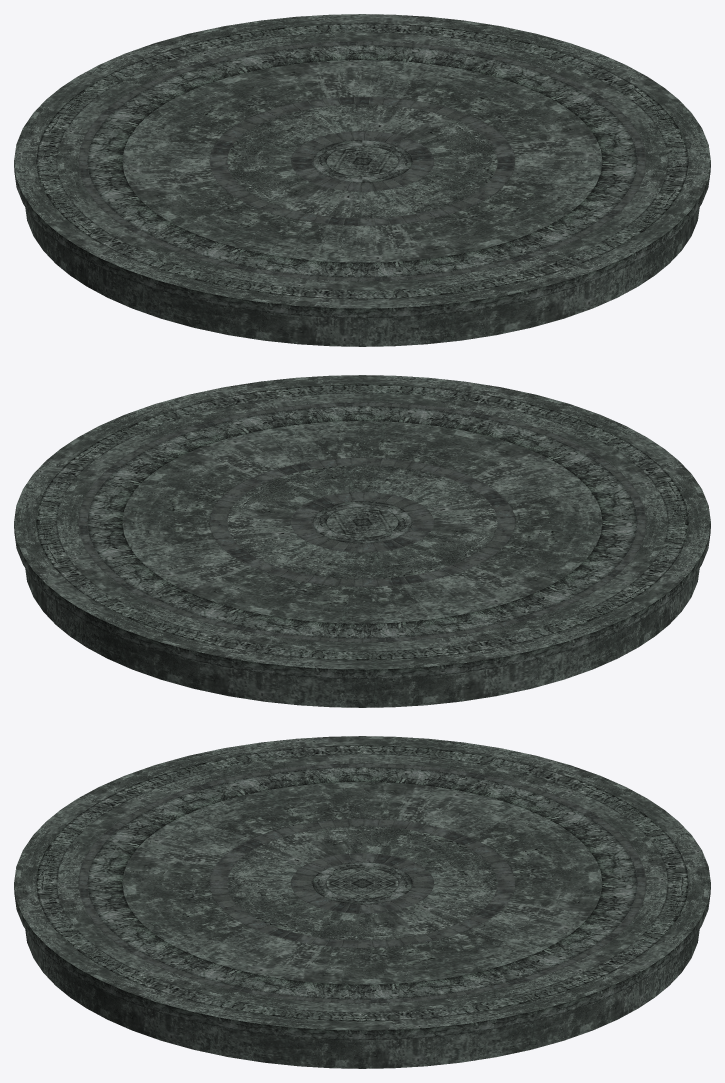
The model's file is mg_9_plate_2.fbx.
3 renders of one model, top to bottom at view 1: azimuth 30°, elevation 25°; view 2: azimuth 150°, elevation 25°; view 3: azimuth 270°, elevation 25°, orthographic.
Visible parts, largest first — view 1: mg_9_plate_2; view 2: mg_9_plate_2; view 3: mg_9_plate_2.
Part boxes in pixels (x1,y1,x2,y2): mg_9_plate_2: (14, 14, 710, 346); mg_9_plate_2: (14, 375, 710, 707); mg_9_plate_2: (14, 736, 710, 1068).
Bounding box in the file's own units: 2155 × 146 × 2155.
